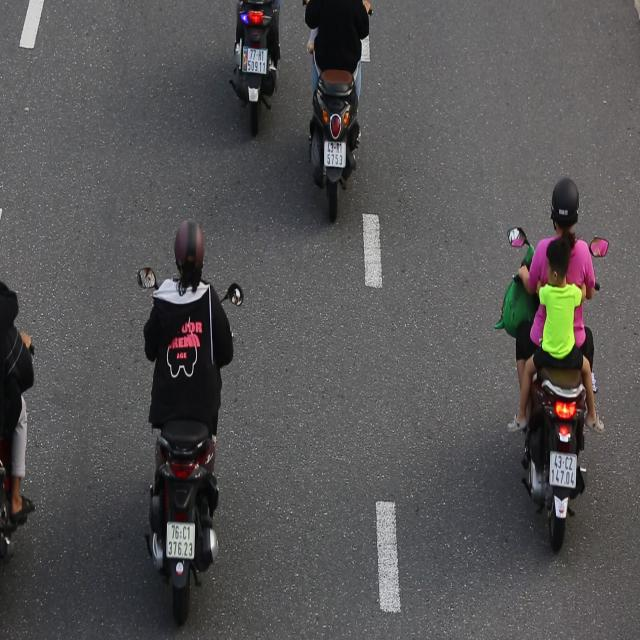motorbike: (136, 214, 245, 635), (502, 168, 610, 562)
